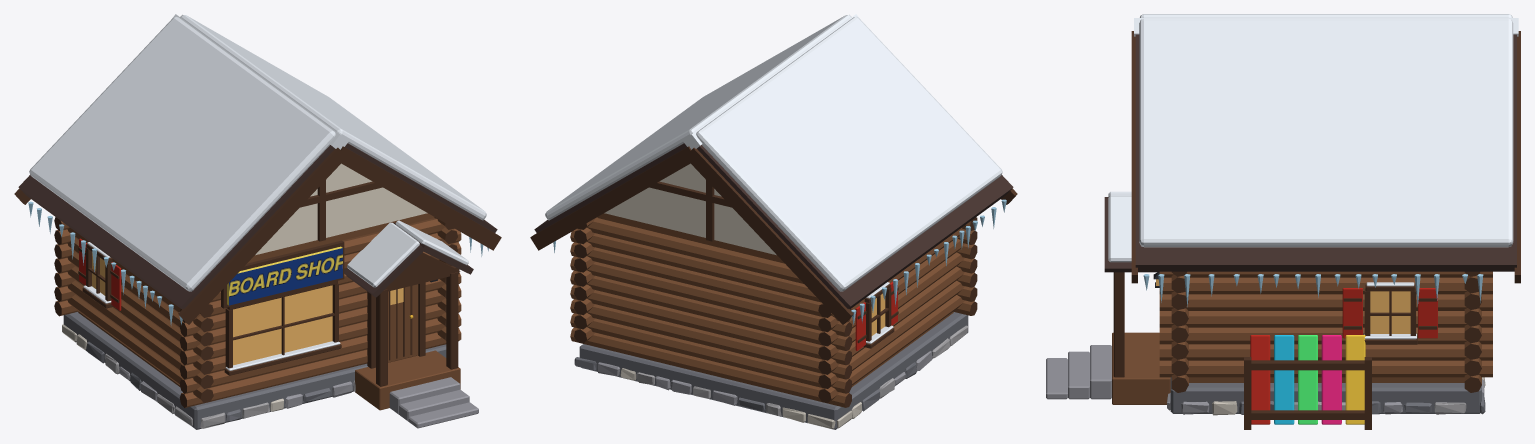
Rendered from board_shop.glb.
3 renders of one model, left to right at view 1: azimuth 30°, elevation 25°; view 2: azimuth 150°, elevation 25°; view 3: azimuth 270°, elevation 25°, orthographic. The views are drawn at different scales.
Parts seen in each view (by area): view 1: board_shop_Structure, board_shop_Windows, board_shop_Sign, board_shop_Icicles; view 2: board_shop_Structure, board_shop_Icicles; view 3: board_shop_Structure, board_shop_Windows, board_shop_Icicles.
Boxes of the visible parts, x1,y1,x2,y2 form: board_shop_Structure: (14,14,501,429); board_shop_Windows: (92,252,403,365); board_shop_Sign: (227,246,342,305); board_shop_Icicles: (28,201,488,325); board_shop_Structure: (530,14,1017,429); board_shop_Icicles: (553,199,1006,324); board_shop_Structure: (1046,14,1520,429); board_shop_Windows: (1156,279,1410,333); board_shop_Icicles: (1143,274,1483,307).
Bounding box in the file's own units: 23.65 × 19.58 × 25.92.
Materials: 2 (2 with a texture image).
